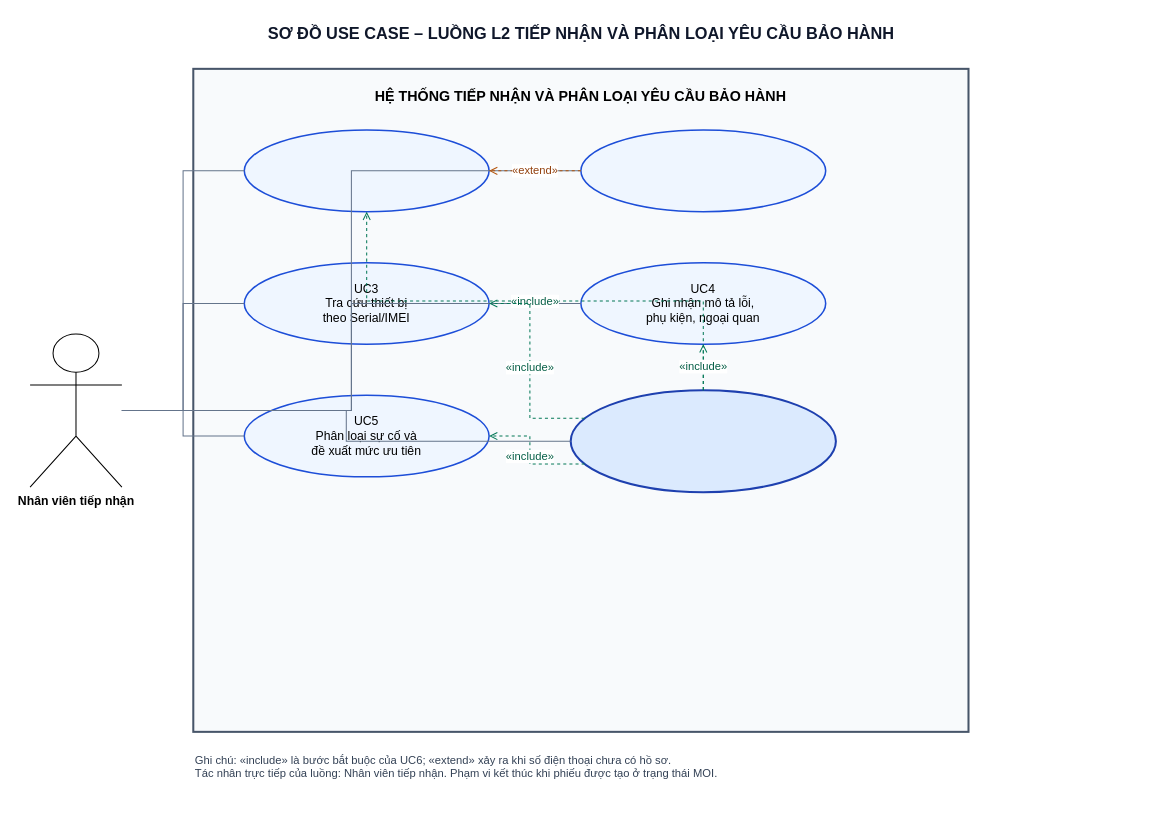
This 1149x815 diagram has some shape labels left out. The shapes that lost their labels are listed below. From the top down, each one's centre as x and y in pixels, then its label:
At point 366,170: "UC1 Tra cứu khách hàng theo số điện thoại".
At point 703,170: "UC2 Tạo hồ sơ khách hàng mới".
At point 702,441: "UC6 Kiểm tra bảo hành, tính hạn và tạo phiếu MOI".
